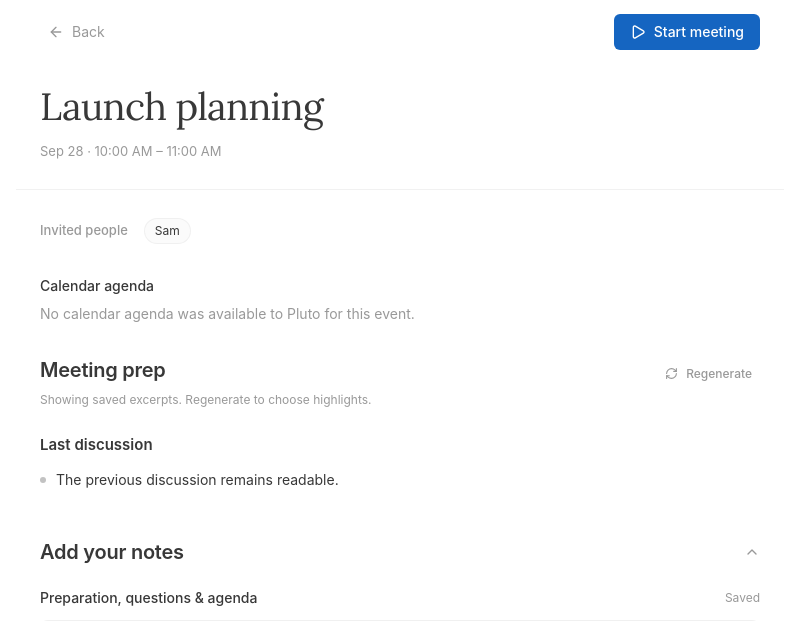
Test: keeps existing excerpts visible while regenerating and replaces them with a completed recap
The image size is (801, 621).
Later steps or results of the test are not shown.
Click the button "Regenerate" at (709, 374), box x1=657 y1=356 x2=760 y2=392
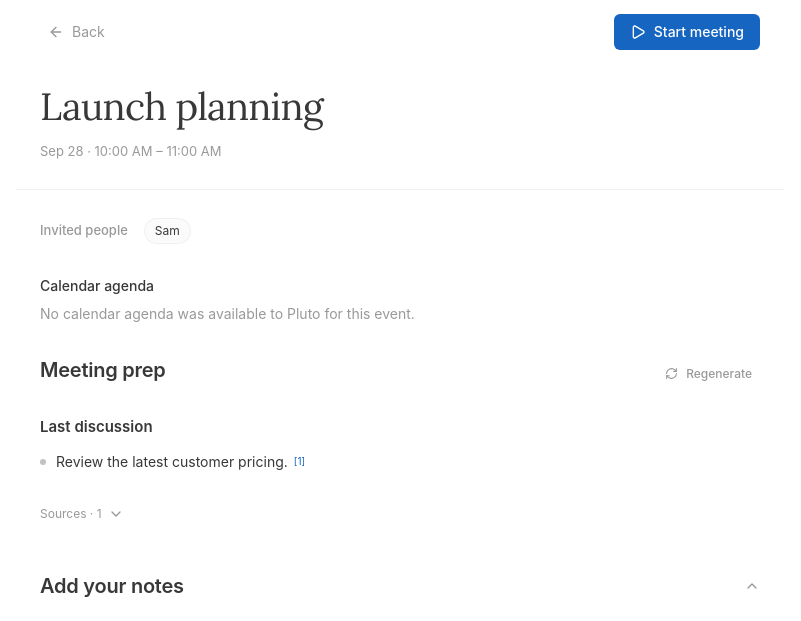
Result: the text "Review the latest customer pricing." is shown at x1=56 y1=453 x2=288 y2=470
